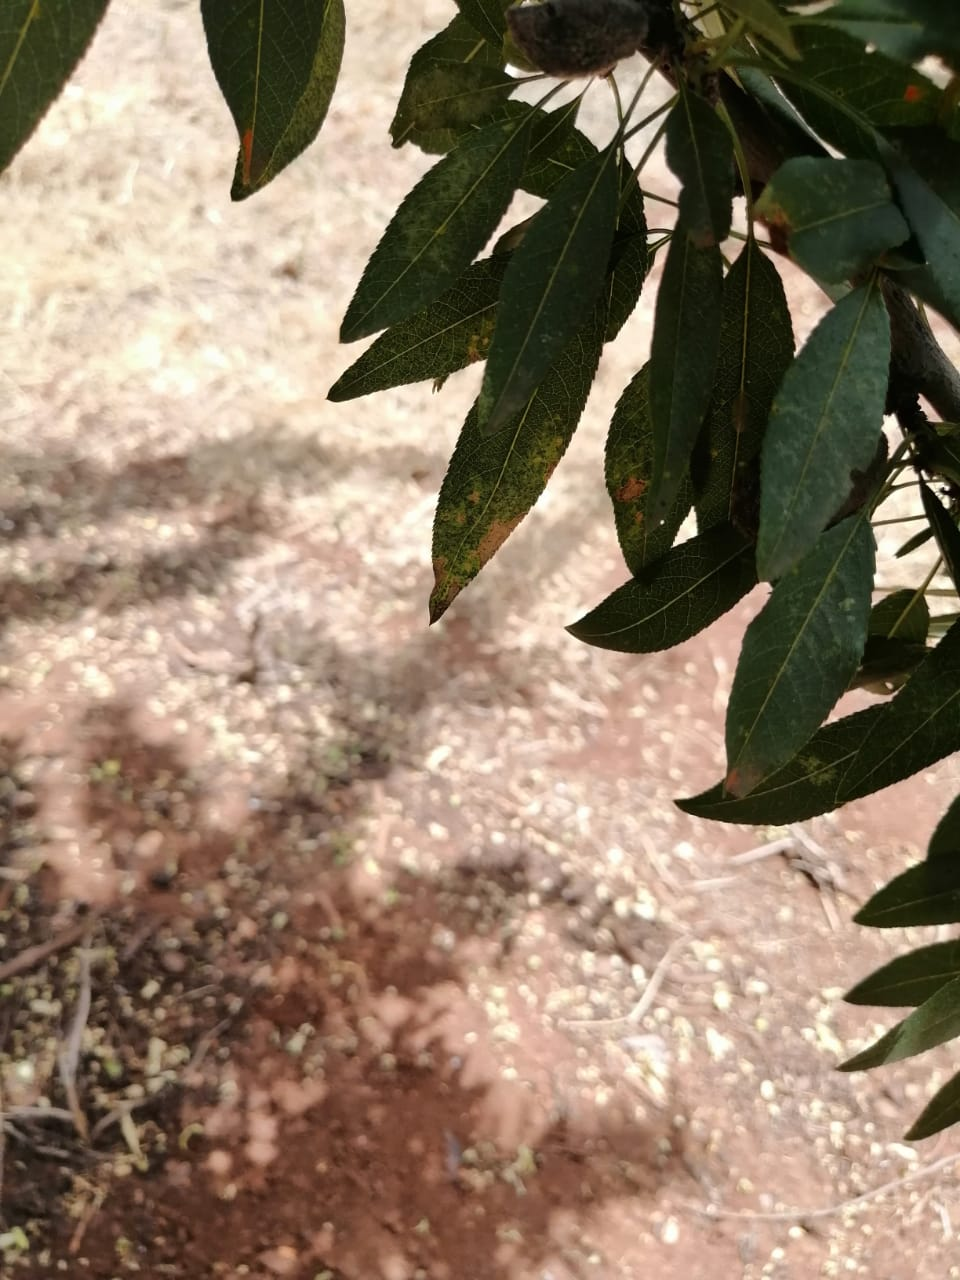chancre fusicocum: (176, 421, 960, 869)
